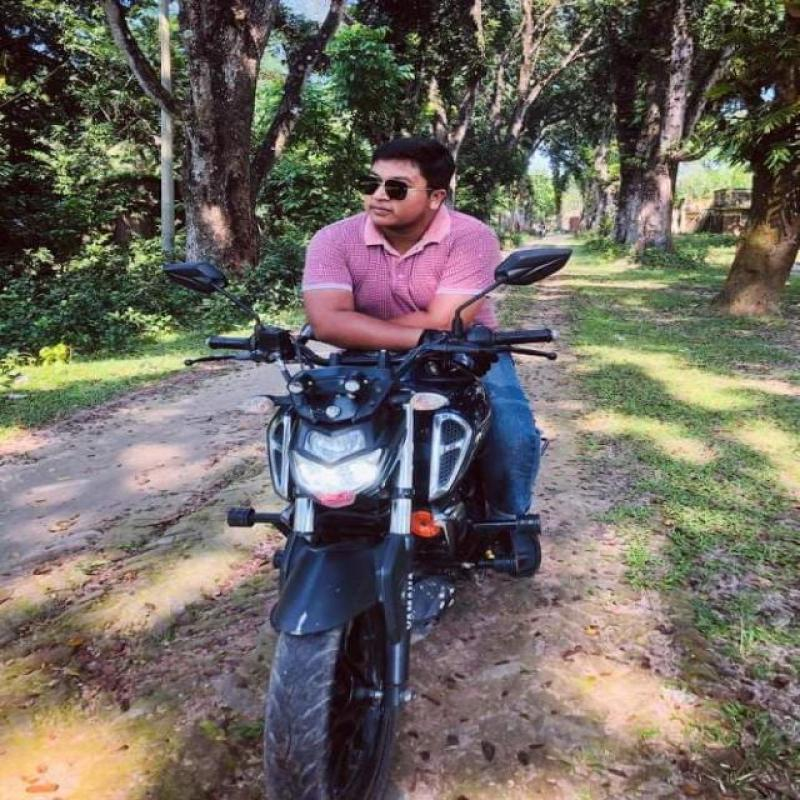nohelmet: (356, 127, 454, 235)
